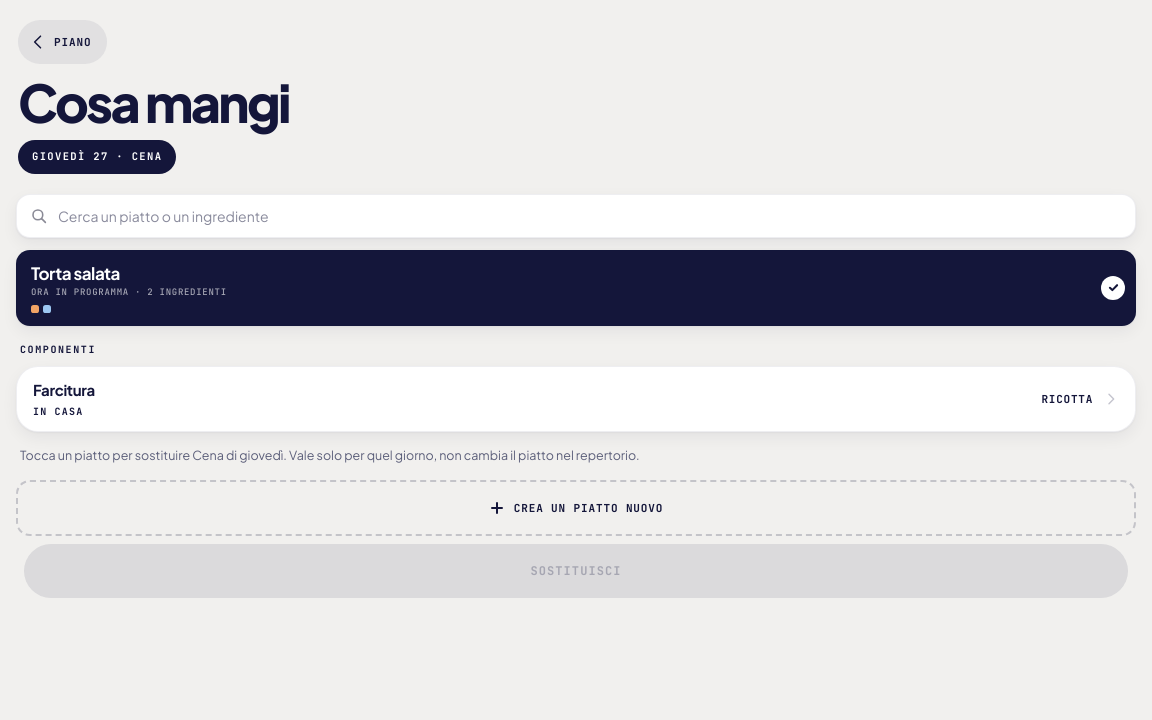
Test: Scegli — il ridisegno della fase 7 › i componenti sono Righe di impostazione sotto COMPONENTI: nome, opzione come valore, IN CASA nella nota
Expected: the text "Torta salata" is shown, [31,262,120,284]
Expected: the heading "COMPONENTI" is shown, [20,343,96,356]
Click the button with aria-label "Cambia Farcitura: ora Ricotta": point(64, 390) [29,371,1123,427]
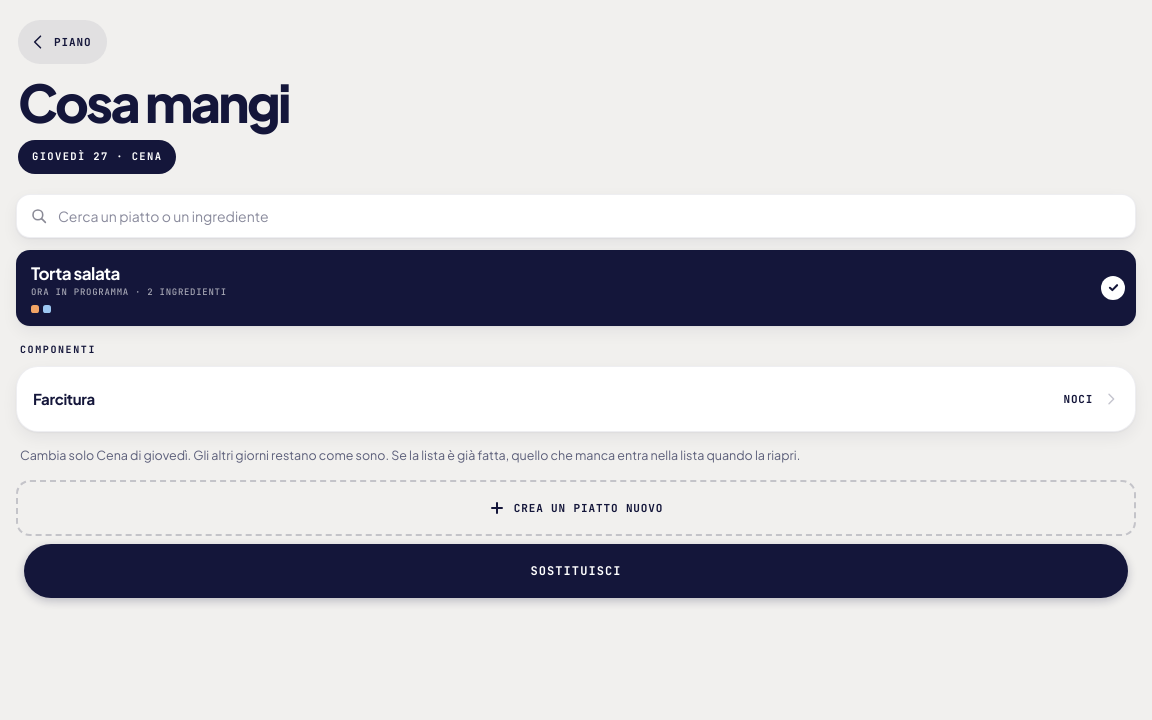
Expected: the text "Noci" is shown, [1064,391,1093,407]
Expected: the text "IN CASA" is gone
